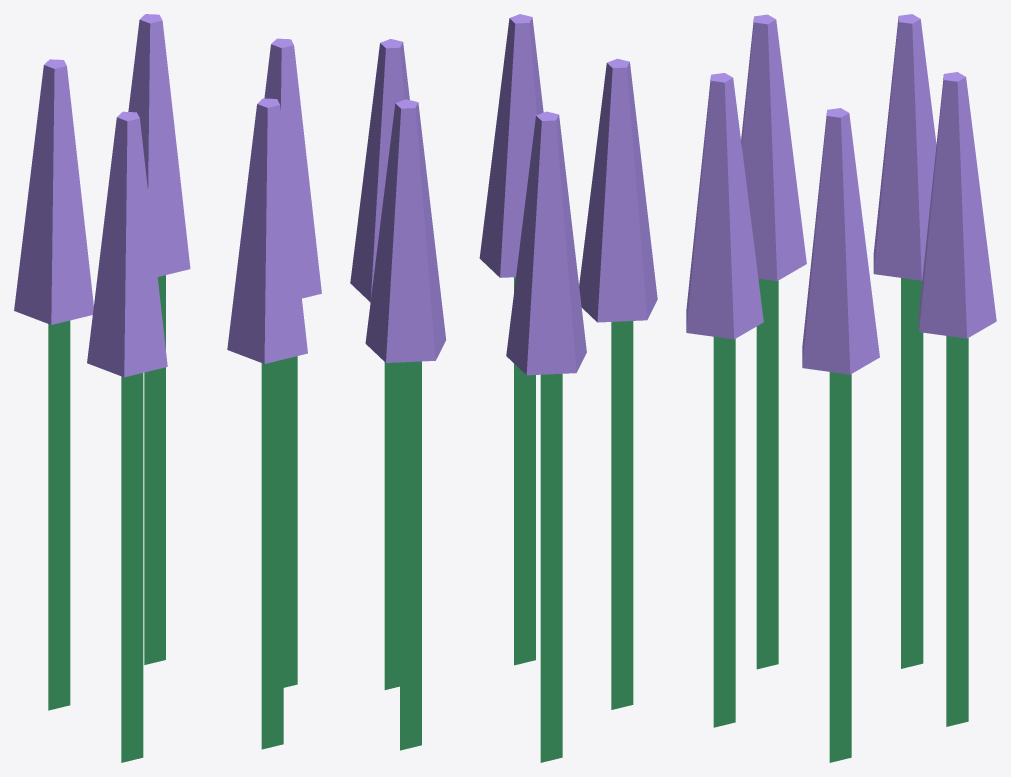
File: lavender.glb
3 renders of one model, left to right at view 1: azimuth 30°, elevation 25°; view 2: azimuth 150°, elevation 25°; view 3: azimuth 270°, elevation 25°, orthographic.
Visible parts, largest first — view 1: lavender; view 2: lavender; view 3: lavender.
Part boxes in pixels (box(x1,y1,x2,y2)): lavender: box(14, 14, 321, 762); lavender: box(350, 14, 657, 762); lavender: box(686, 14, 996, 762).
Bounding box in the file's own units: 0.2479 × 0.58 × 0.2532.
